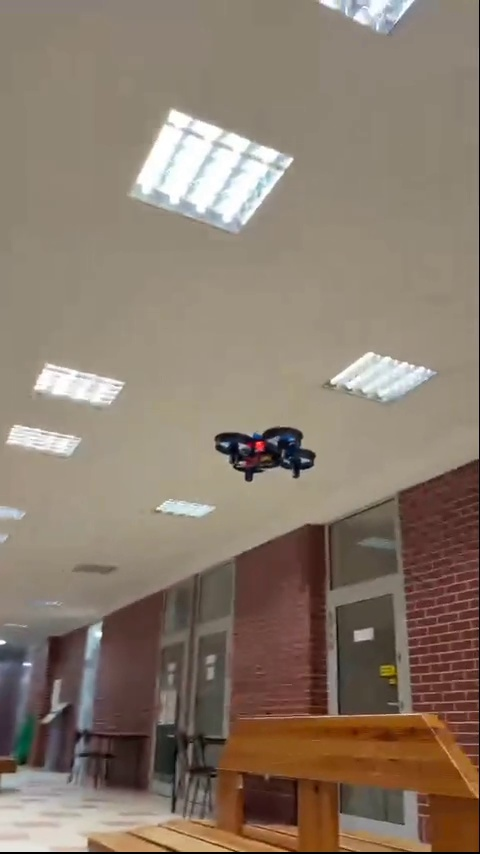drone: (220, 425, 319, 477)
